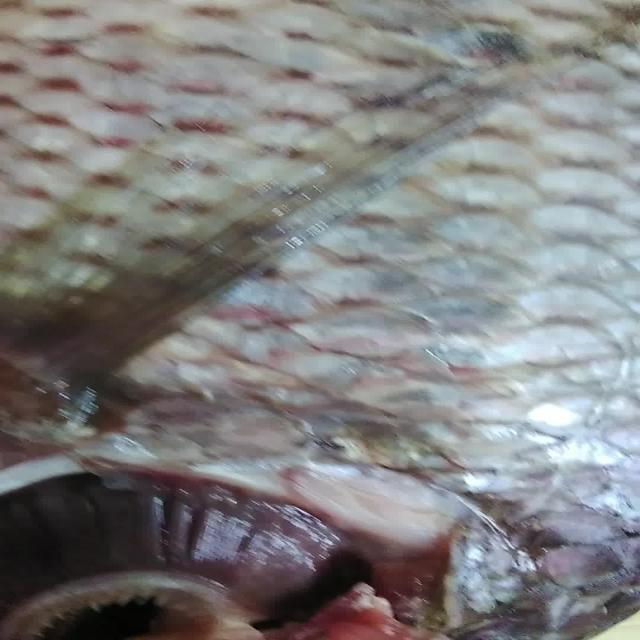Non-Fresh: (18, 442, 336, 631)
